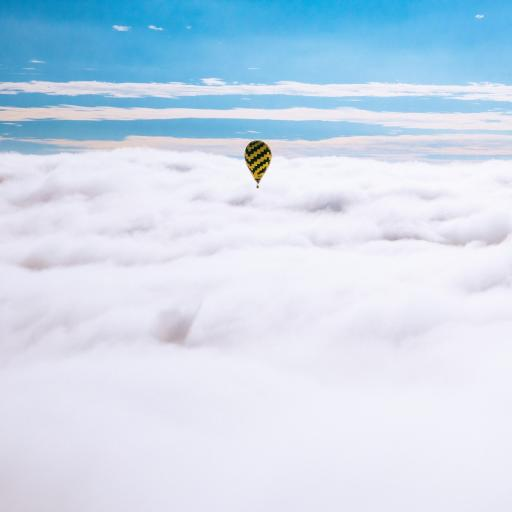hot air ballon: (245, 140, 272, 189)
